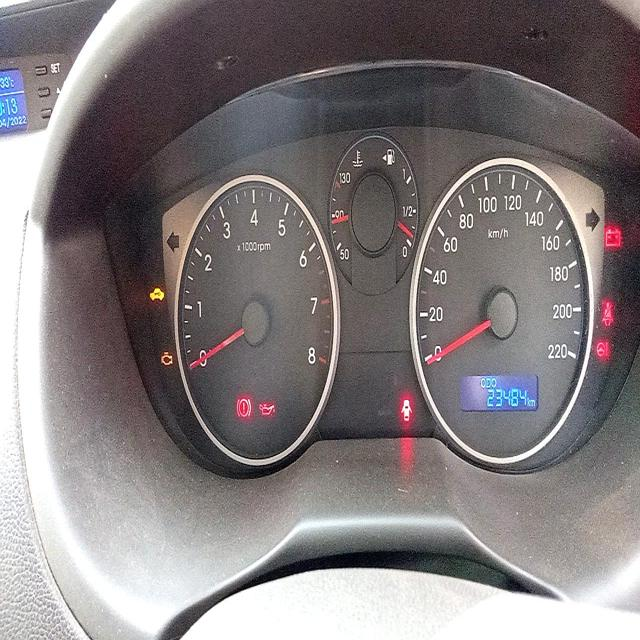odometer: (484, 386, 528, 408)
